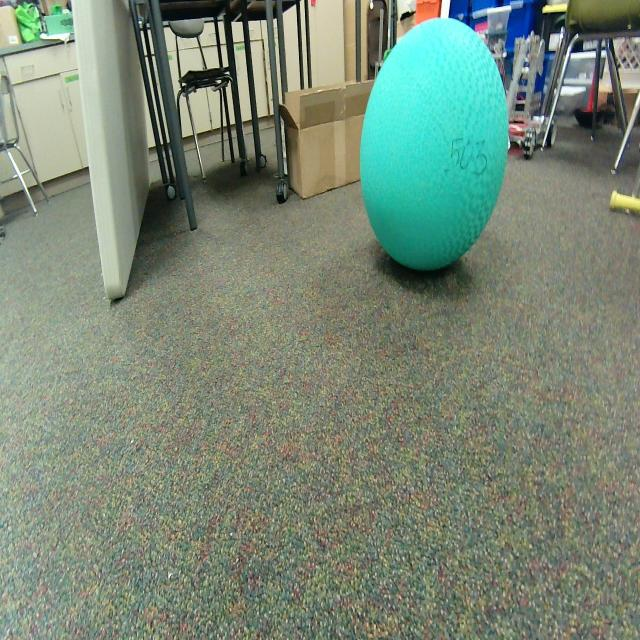algae: (360, 18, 508, 271)
